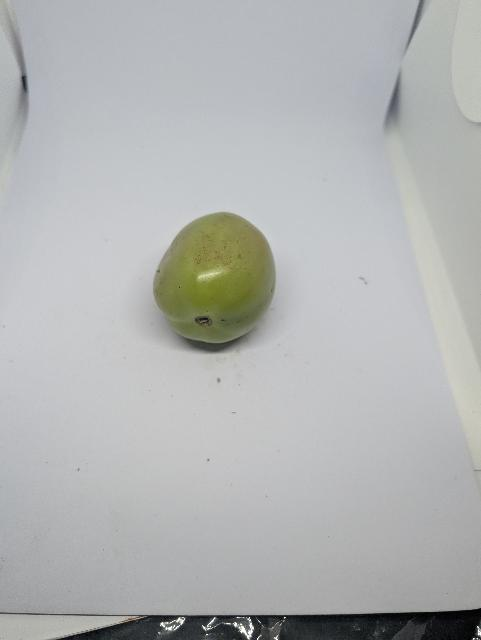green: (151, 210, 279, 345)
